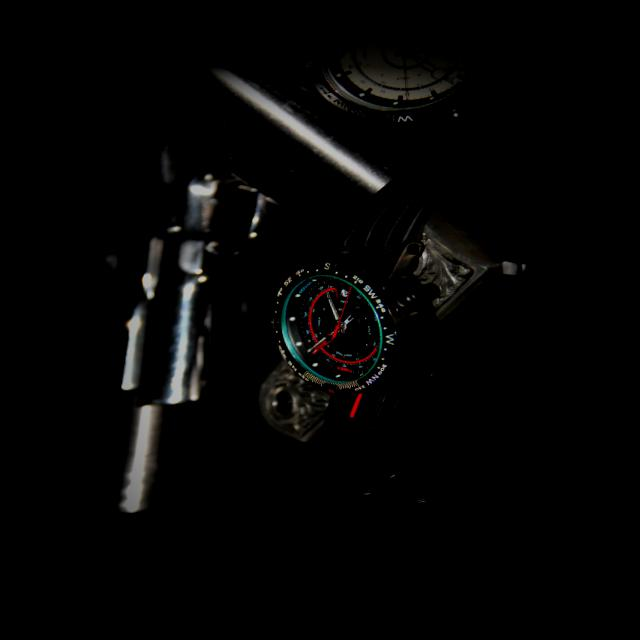handgun: (79, 135, 639, 639), (0, 0, 437, 522)
